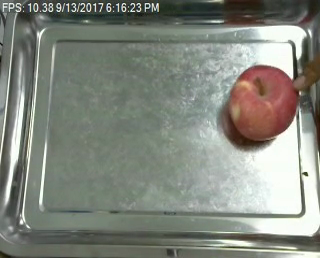Apple: (225, 63, 298, 142)
